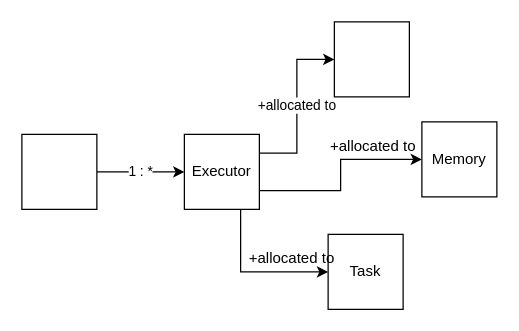
The diagram is 519 pixels wide and 331 high, and some of its shapes have lost their labels. Each missing label, with the centre of its shape:
"CPU" belongs at (x=371, y=59).
"Driver" belongs at (x=59, y=171).
